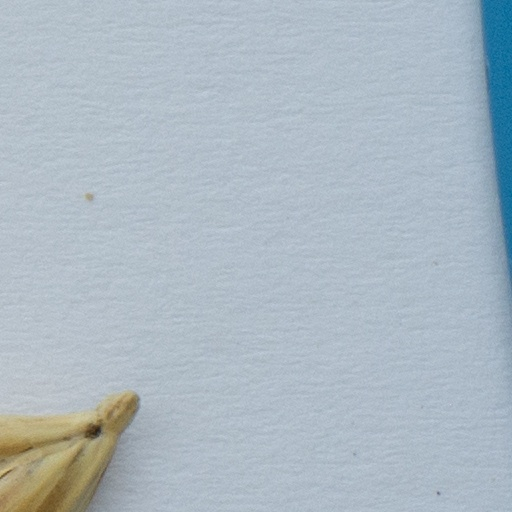Peel-poly: (0, 389, 137, 511)
